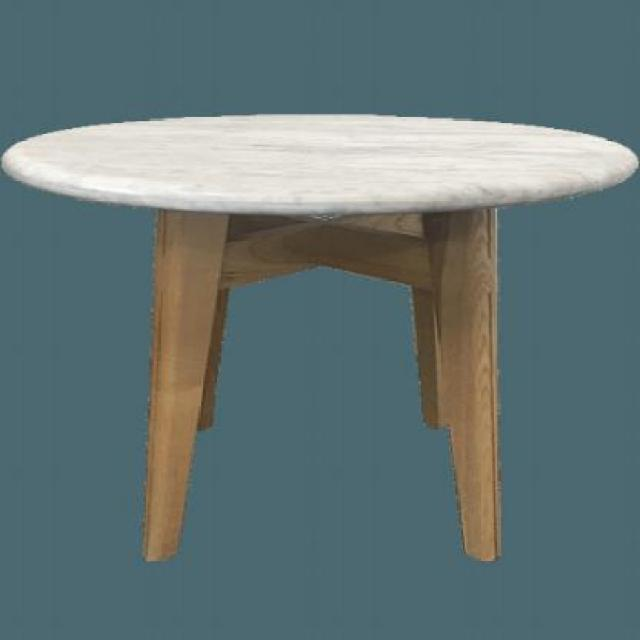table: (0, 110, 638, 561)
